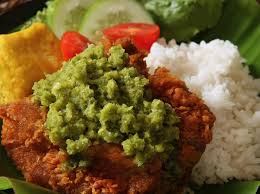ayam_geprek: (4, 60, 206, 194)
